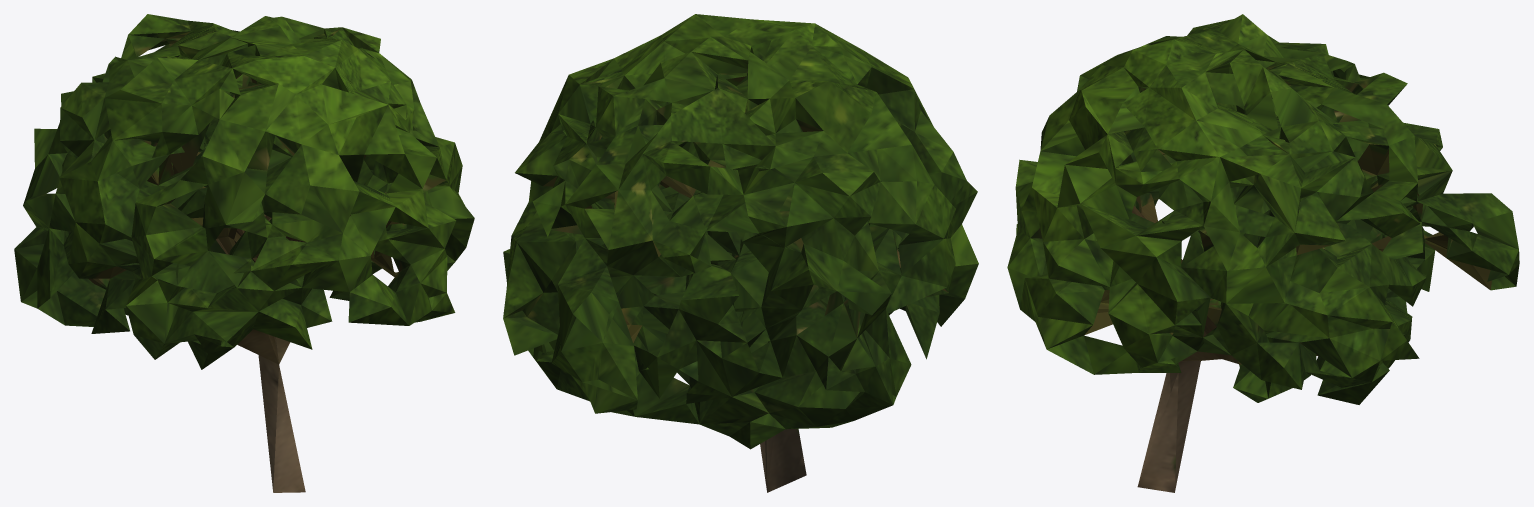
File: tree_lod.fbx
3 views of the same model, side by side, from view 1: azimuth 30°, elevation 25°; view 2: azimuth 150°, elevation 25°; view 3: azimuth 270°, elevation 25° (orthographic). The views are drawn at different scales.
Visible parts, largest first — view 1: Mesh_0; view 2: Mesh_0; view 3: Mesh_0.
Boxes of the visible parts, x1,y1,x2,y2 form: Mesh_0: (14,14,474,492); Mesh_0: (503,14,978,492); Mesh_0: (1007,14,1519,492).
Bounding box in the file's own units: 7.3 × 8 × 8.4.
1 material, 1 textured.
